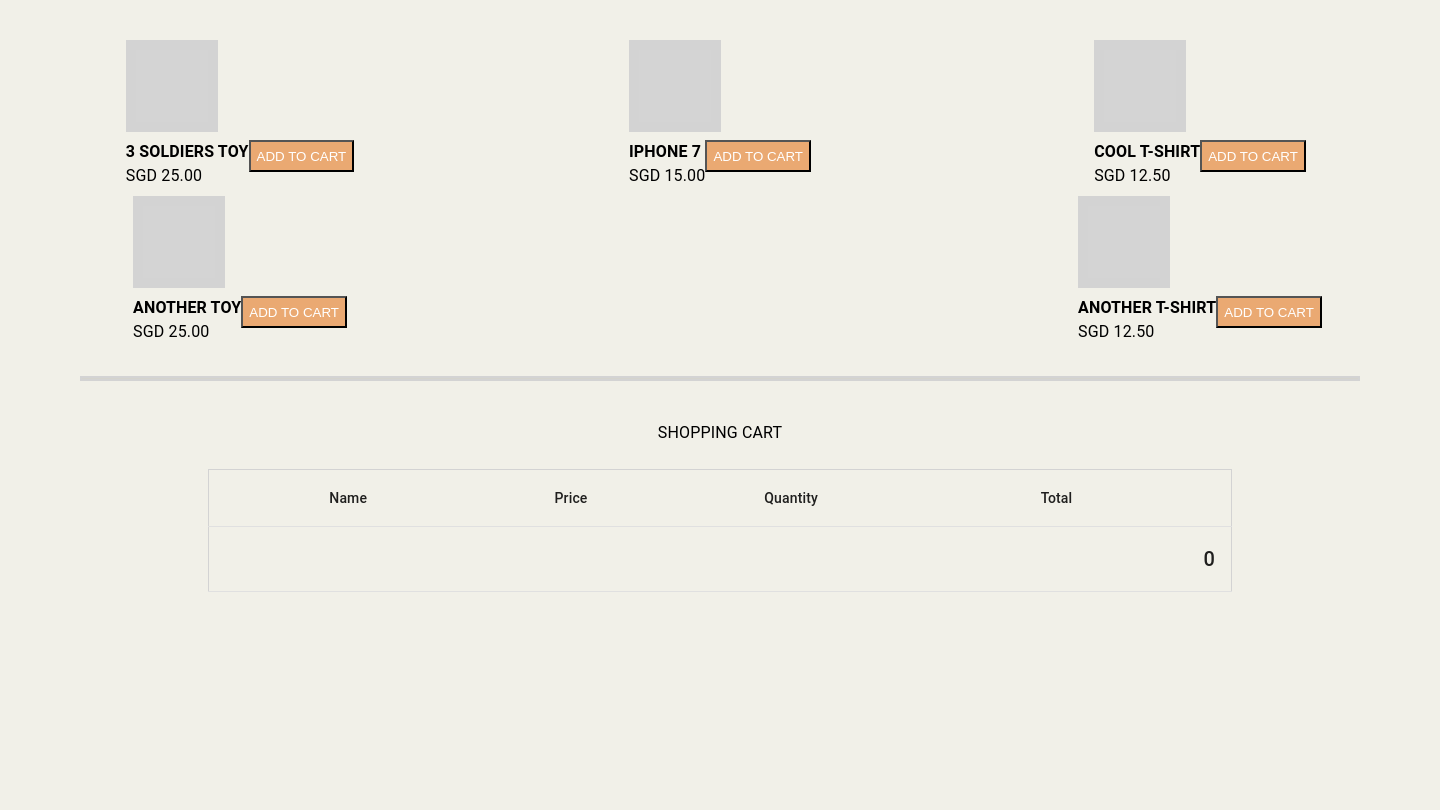
Test: Main › Expect item to show on add to cart click
Click the button with test id "button-addCart-IPhone 7": (758, 156) top-left (705, 140), bottom-right (811, 172)
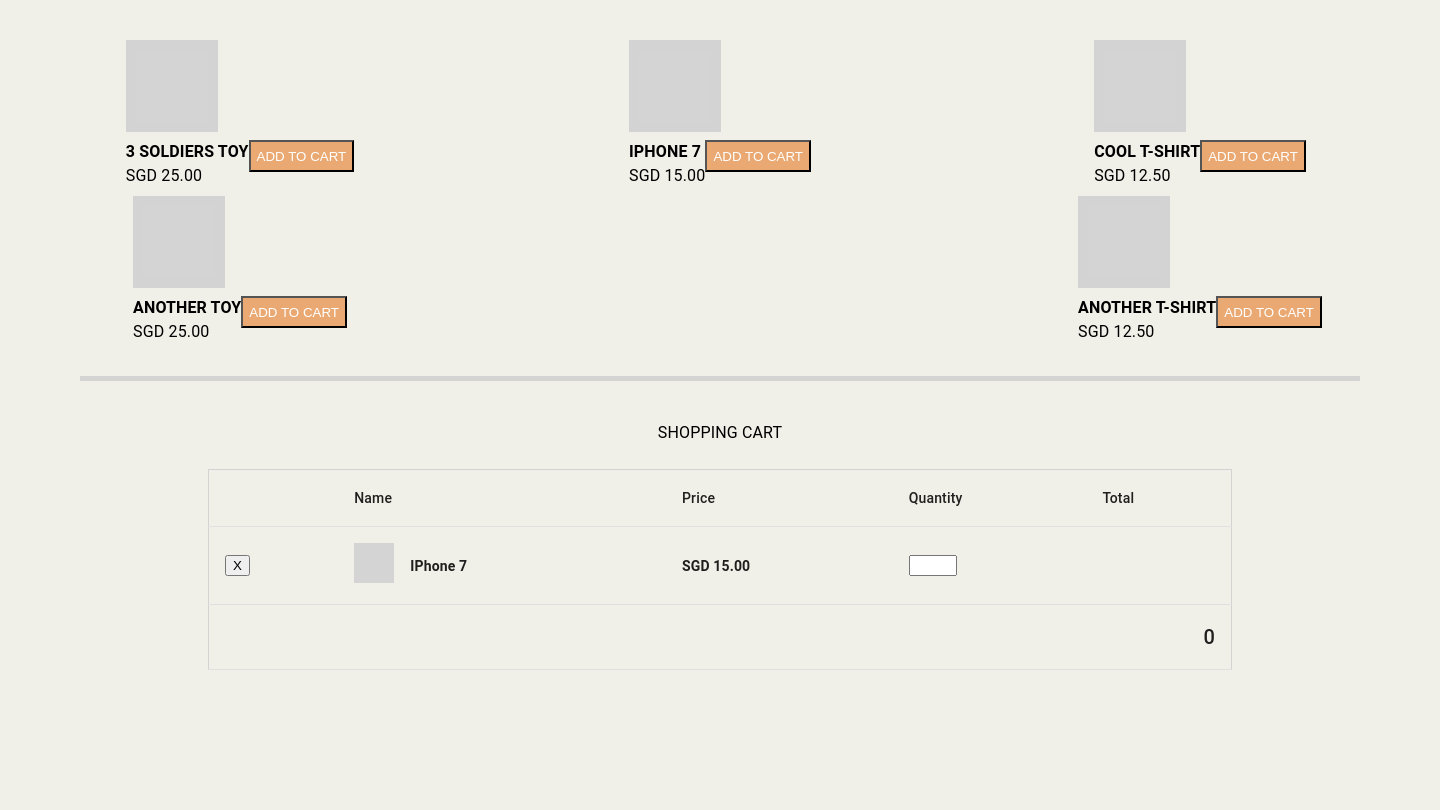
Expected: the field with test id "qty-0" is shown, top-left (909, 555), bottom-right (957, 576)
